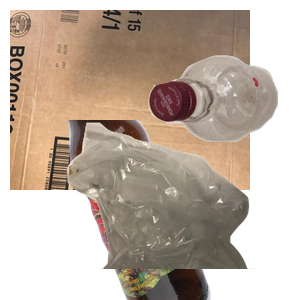cardboard: (10, 10, 250, 190)
glass: (65, 120, 300, 300)
plastic: (146, 53, 300, 187)
trash: (65, 120, 300, 300)
